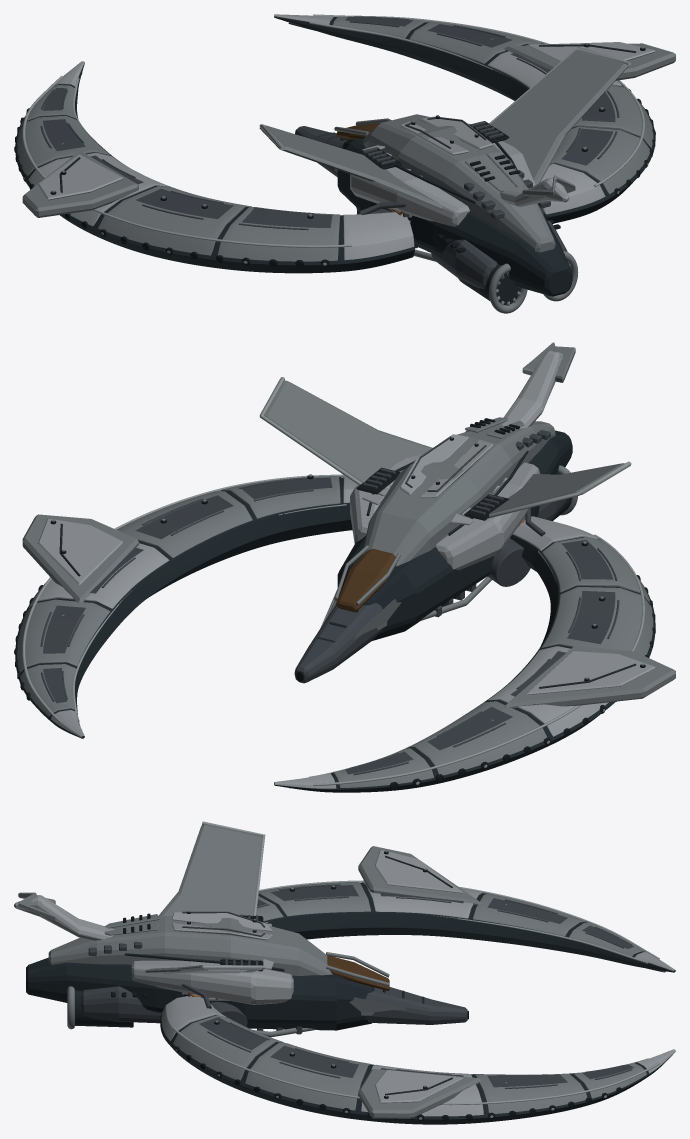
File: goliath.glb
3 views of the same model, one above another, from view 1: azimuth 30°, elevation 25°; view 2: azimuth 150°, elevation 25°; view 3: azimuth 270°, elevation 25° (orthographic). The views are drawn at different scales.
Parts seen in each view (by area): view 1: goliath; view 2: goliath; view 3: goliath.
Boxes of the visible parts, x1,y1,x2,y2 form: goliath: (14,14,675,313); goliath: (14,342,675,792); goliath: (14,821,675,1124).
Bounding box in the file's own units: 4.76 × 1.11 × 5.01.
